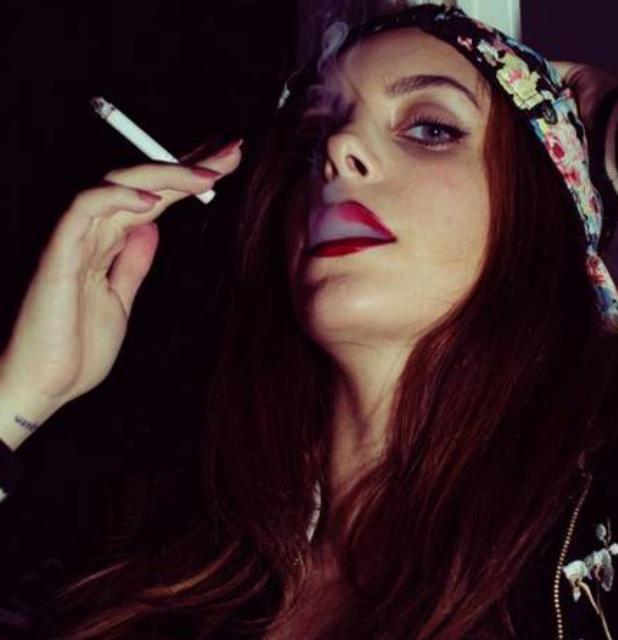SafeDriving: (387, 97, 477, 159)
Smoking: (82, 94, 214, 208)
